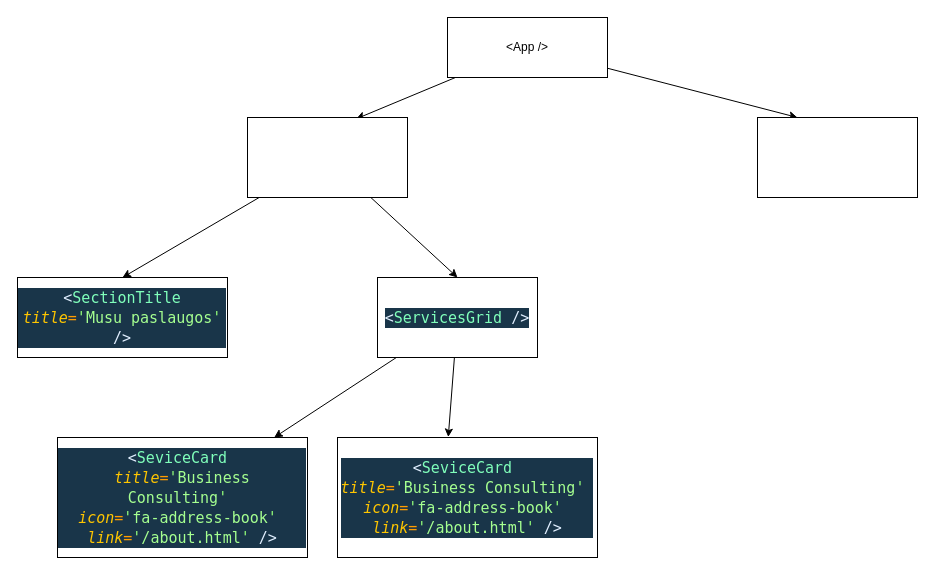
The diagram is 935 pixels wide and 575 high, and some of its shapes have lost their labels. The centre of each missing label's shape, as x and y in pixels:
< OurTeamSection />: point (837, 157)
<OurServices />: point (327, 157)
